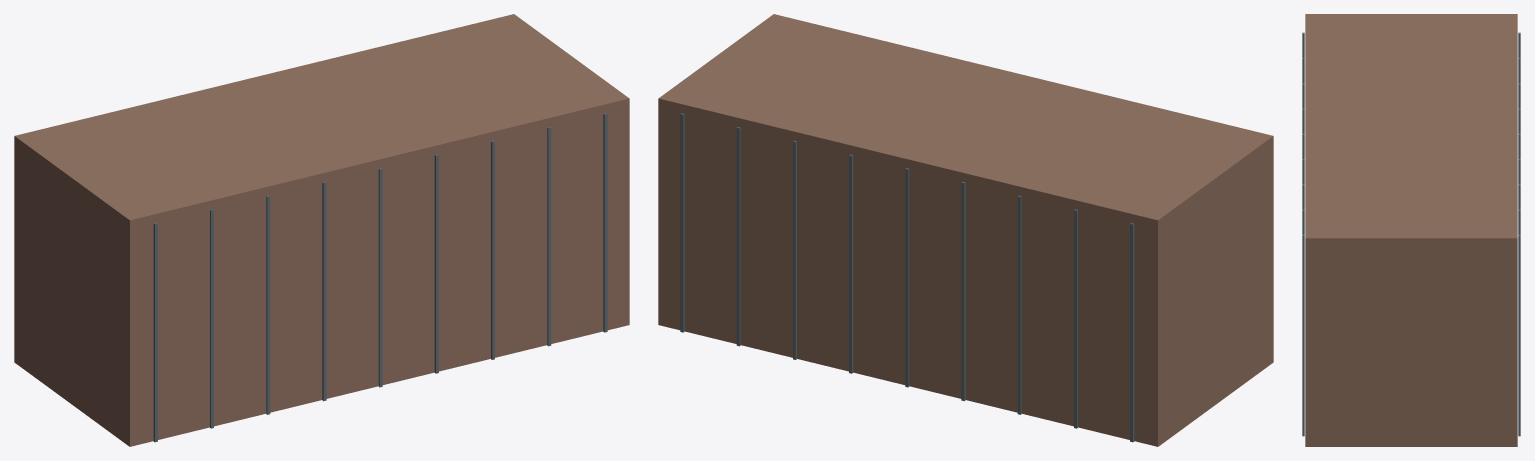
Rendered from container.glb.
3 renders of one model, left to right at view 1: azimuth 30°, elevation 25°; view 2: azimuth 150°, elevation 25°; view 3: azimuth 270°, elevation 25°, orthographic. The views are drawn at different scales.
Visible parts, largest first — view 1: container; view 2: container; view 3: container.
Part boxes in pixels (<box>): container: <box>14,14,629,446</box>; container: <box>658,14,1273,446</box>; container: <box>1302,14,1520,446</box>.
Size of the model in its own units: 6 by 2.6 by 2.46.
